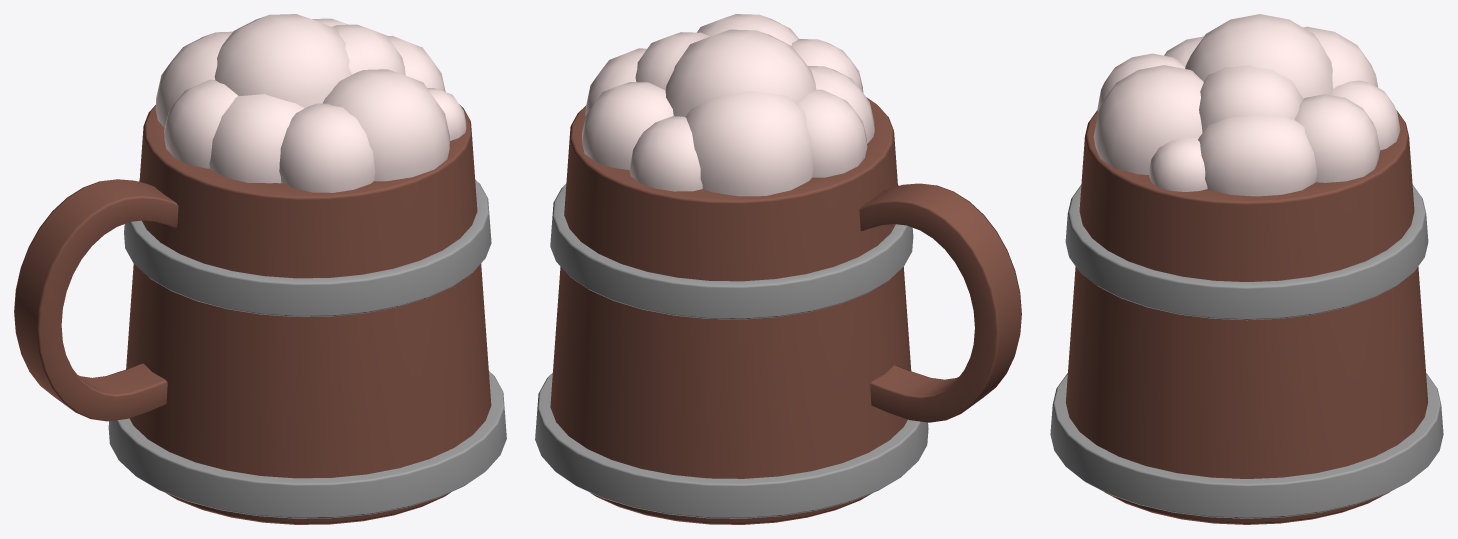
The model's file is Store_16_Beer_mug_2.glb.
3 views of the same model, side by side, from view 1: azimuth 30°, elevation 25°; view 2: azimuth 150°, elevation 25°; view 3: azimuth 270°, elevation 25° (orthographic).
Parts seen in each view (by area): view 1: Store_16_Beer_mug_2; view 2: Store_16_Beer_mug_2; view 3: Store_16_Beer_mug_2.
Part boxes in pixels (box(x1,y1,x2,y2)): Store_16_Beer_mug_2: box(14, 14, 506, 524); Store_16_Beer_mug_2: box(535, 14, 1021, 524); Store_16_Beer_mug_2: box(1050, 14, 1443, 524).
Bounding box in the file's own units: 0.2123 × 0.1914 × 0.1613.
1 material, 1 textured.
